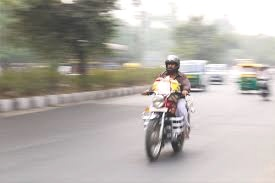Vehicle: (137, 80, 194, 162), (235, 62, 270, 95), (173, 59, 207, 89), (255, 68, 274, 102), (203, 61, 229, 85)
